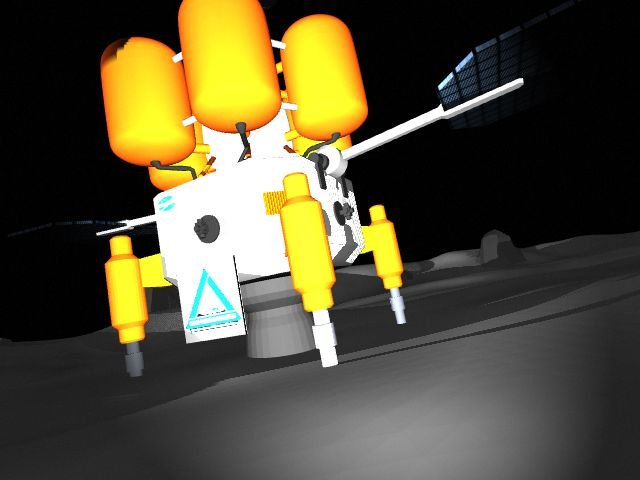basemarker: (184, 268, 241, 332)
